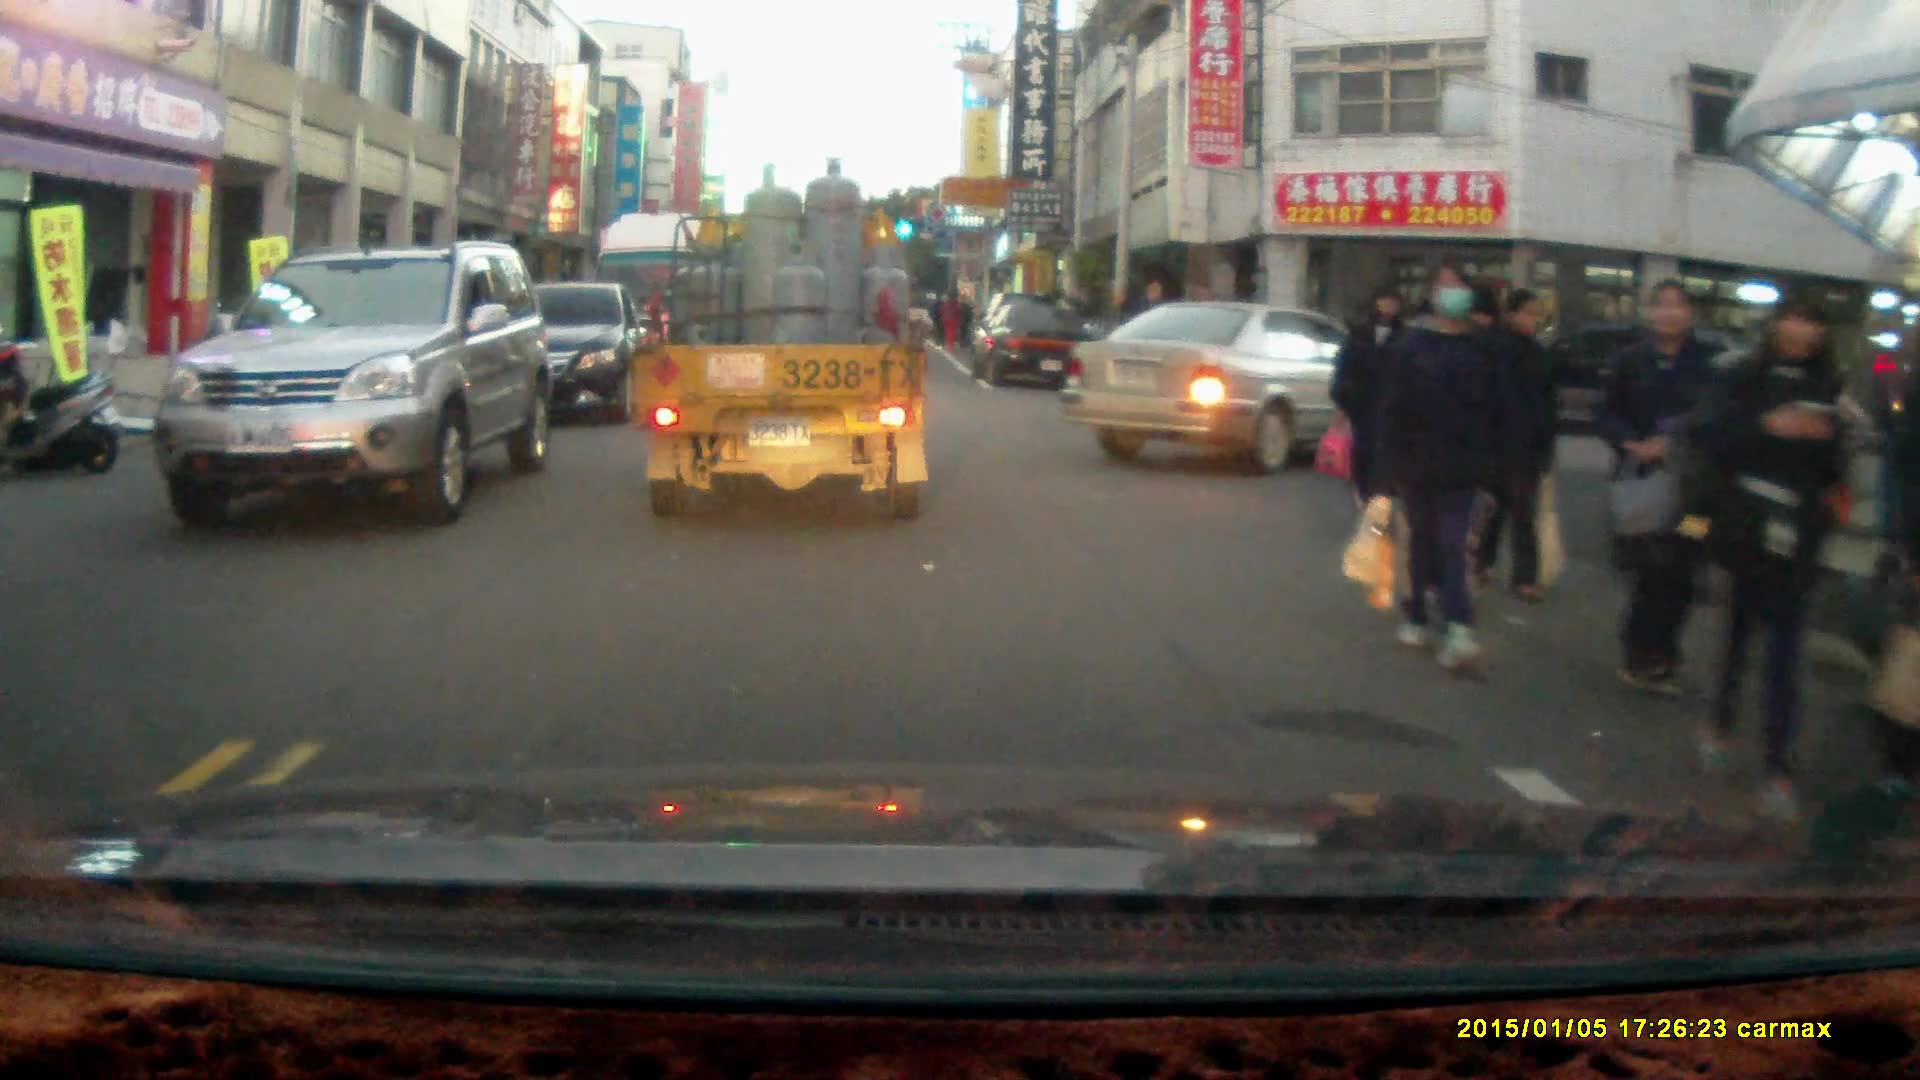pedestrian: (1697, 269, 1857, 815), (1387, 256, 1542, 681), (1596, 276, 1736, 712), (1464, 285, 1552, 607), (1328, 284, 1420, 548)
vehicle: (627, 154, 937, 519), (154, 240, 552, 523), (1061, 303, 1444, 475), (443, 284, 651, 430), (592, 210, 748, 396), (978, 296, 1099, 391)
